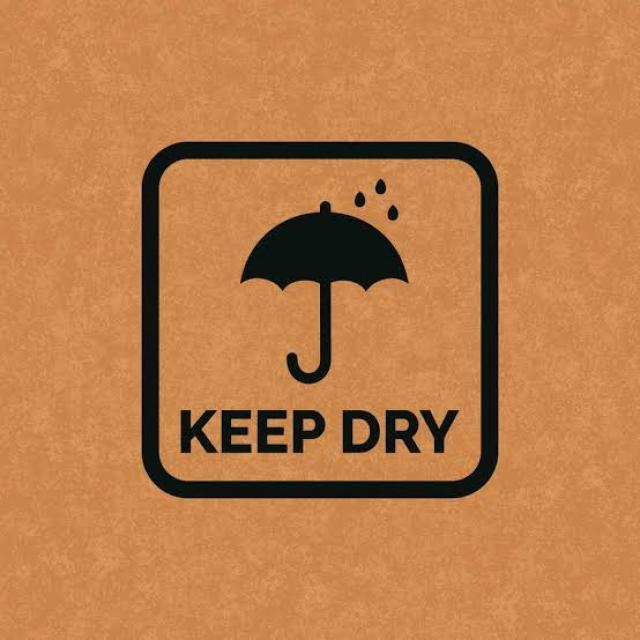keep_dry_label: (130, 129, 516, 526)
